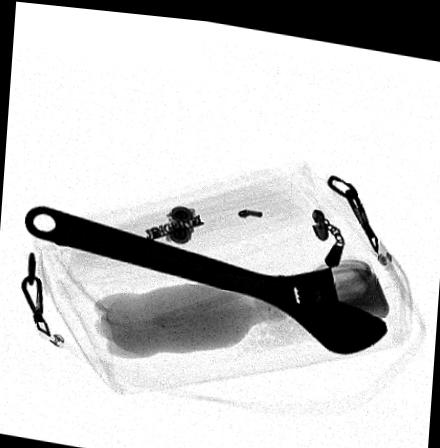Wrench: (22, 202, 389, 348)
